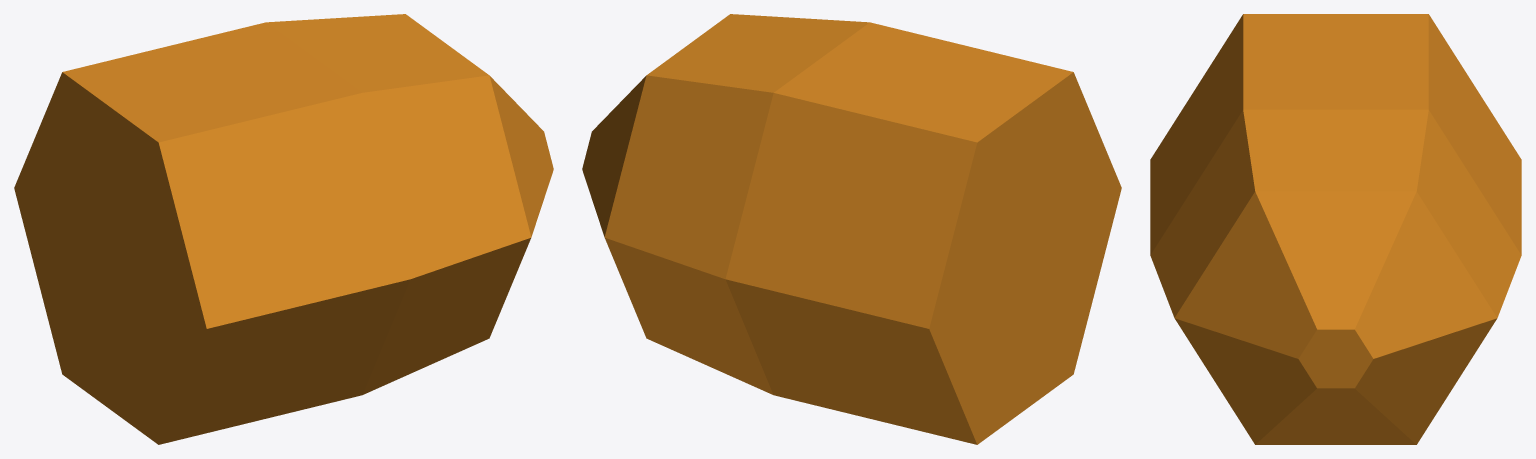
The model's file is Bullet_01.fbx.
The picture shows the model from 3 angles, left to right: view 1: azimuth 30°, elevation 25°; view 2: azimuth 150°, elevation 25°; view 3: azimuth 270°, elevation 25°; orthographic projection. The views are drawn at different scales.
Parts seen in each view (by area): view 1: Bullet_01; view 2: Bullet_01; view 3: Bullet_01.
Part boxes in pixels (bbox=[...]): Bullet_01: bbox=[14, 14, 553, 444]; Bullet_01: bbox=[582, 14, 1121, 444]; Bullet_01: bbox=[1150, 14, 1521, 444].
Bounding box in the file's own units: 0.0132 × 0.009 × 0.0104.
